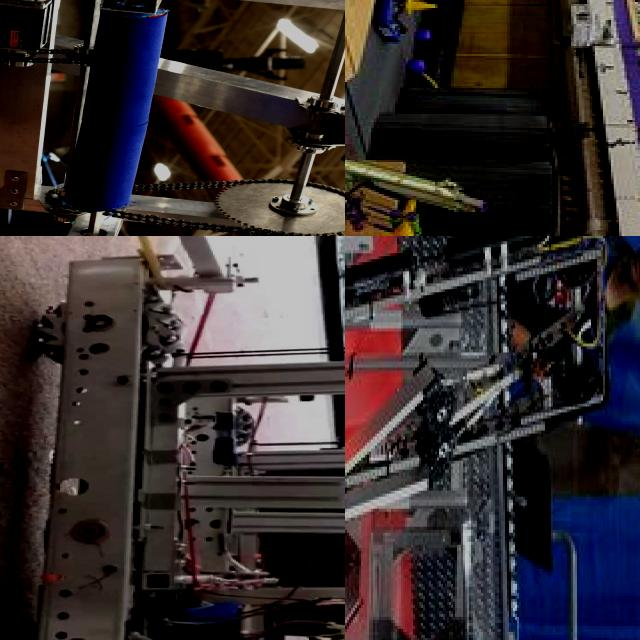FRC-Robots: (0, 236, 345, 640), (345, 236, 614, 640), (0, 0, 345, 236), (345, 96, 549, 236), (353, 0, 457, 57)
